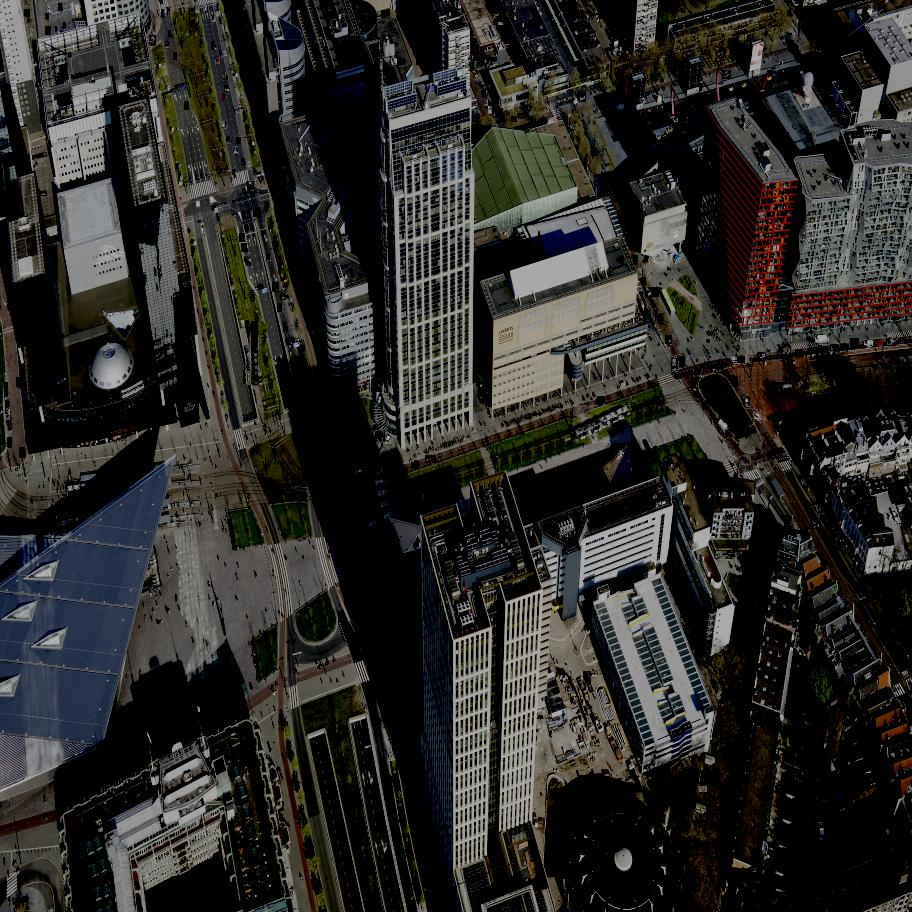large-vehicle: (572, 405, 633, 443), (251, 321, 258, 385), (772, 383, 796, 397)
small-vehicle: (715, 419, 735, 439), (878, 627, 890, 642), (477, 390, 487, 405), (604, 724, 614, 739), (375, 431, 387, 443), (700, 776, 712, 788), (804, 865, 817, 876), (789, 869, 800, 881), (753, 411, 764, 423), (700, 770, 712, 781), (310, 449, 320, 462), (778, 348, 791, 358), (752, 605, 760, 621), (395, 465, 407, 475), (576, 93, 588, 103), (740, 456, 752, 466), (754, 584, 764, 596), (680, 606, 690, 618), (583, 671, 592, 684), (818, 823, 824, 842), (814, 774, 825, 784), (148, 35, 158, 46), (810, 517, 819, 529), (816, 782, 828, 791), (798, 852, 810, 861), (6, 422, 14, 435), (722, 70, 732, 80), (693, 369, 703, 379), (822, 810, 832, 820), (644, 287, 653, 298), (821, 817, 832, 826), (817, 789, 828, 798), (886, 338, 897, 347), (247, 182, 255, 194), (253, 208, 262, 218), (702, 400, 711, 410), (825, 823, 835, 832), (850, 339, 860, 348), (856, 589, 865, 599), (285, 338, 293, 349), (675, 593, 683, 604), (816, 335, 827, 343), (672, 359, 679, 371), (597, 397, 606, 406), (244, 257, 252, 267), (636, 268, 644, 278), (652, 288, 660, 298), (687, 618, 693, 631), (336, 468, 347, 475), (425, 456, 436, 463), (385, 434, 392, 445), (712, 414, 719, 425), (784, 516, 791, 527), (272, 283, 280, 292), (738, 356, 747, 364), (738, 690, 744, 702), (5, 411, 12, 421), (290, 358, 297, 368), (239, 233, 246, 243), (280, 290, 287, 300), (757, 353, 767, 360), (732, 377, 739, 387), (743, 397, 750, 407), (20, 447, 26, 458), (665, 336, 673, 344), (378, 470, 387, 477), (485, 0, 494, 7), (501, 35, 510, 42), (819, 346, 828, 353), (617, 585, 624, 594), (899, 338, 908, 345), (679, 357, 685, 367), (820, 797, 830, 803), (506, 44, 514, 51), (472, 70, 479, 78), (510, 54, 518, 61), (699, 785, 707, 792), (54, 25, 60, 34), (4, 391, 9, 401), (633, 255, 638, 265), (45, 27, 51, 35), (490, 10, 498, 16), (492, 13, 500, 19), (512, 57, 520, 63), (488, 107, 494, 115), (641, 277, 647, 285), (715, 364, 723, 370), (842, 344, 850, 350), (831, 344, 839, 350), (808, 348, 816, 354), (38, 191, 47, 196), (243, 243, 248, 252), (185, 101, 190, 110), (748, 632, 752, 643), (902, 518, 906, 529), (277, 304, 283, 311), (401, 19, 407, 26), (493, 20, 500, 26), (411, 462, 418, 468), (509, 51, 516, 57), (514, 59, 521, 65), (518, 114, 525, 120), (524, 127, 531, 133), (875, 339, 882, 345), (796, 350, 803, 356), (236, 137, 241, 145), (381, 10, 386, 18), (701, 366, 709, 371), (58, 3, 63, 11), (754, 596, 758, 606), (735, 708, 739, 718), (212, 42, 217, 50), (165, 42, 170, 50), (512, 116, 518, 122), (758, 569, 762, 578), (692, 380, 696, 389), (412, 45, 417, 52), (484, 100, 489, 107), (864, 341, 871, 346), (4, 383, 8, 391), (227, 136, 231, 144), (482, 90, 486, 98), (232, 170, 237, 176), (357, 471, 363, 476), (659, 315, 662, 325), (751, 619, 754, 629), (692, 246, 698, 251), (203, 6, 208, 12), (467, 56, 471, 63), (25, 10, 29, 17), (216, 57, 220, 64), (5, 402, 8, 411), (17, 378, 20, 386), (8, 438, 11, 446), (283, 322, 286, 330), (161, 9, 164, 17), (499, 29, 505, 33), (501, 34, 507, 38), (507, 49, 513, 53), (471, 63, 474, 71), (597, 14, 600, 22), (225, 85, 229, 91), (233, 147, 236, 154), (416, 58, 419, 65), (241, 159, 244, 166), (497, 26, 504, 29), (505, 40, 510, 44), (63, 22, 66, 28), (387, 10, 390, 16), (414, 50, 417, 56), (487, 5, 493, 8), (489, 8, 495, 11), (497, 23, 503, 26), (220, 51, 223, 57), (223, 72, 226, 78), (173, 53, 176, 59), (306, 426, 308, 434), (167, 8, 170, 13), (222, 122, 225, 127), (267, 255, 269, 262), (48, 7, 50, 13), (495, 17, 500, 19), (211, 16, 213, 21), (46, 14, 48, 18), (788, 11, 790, 15), (55, 178, 56, 183), (169, 31, 170, 36), (223, 95, 224, 99)
